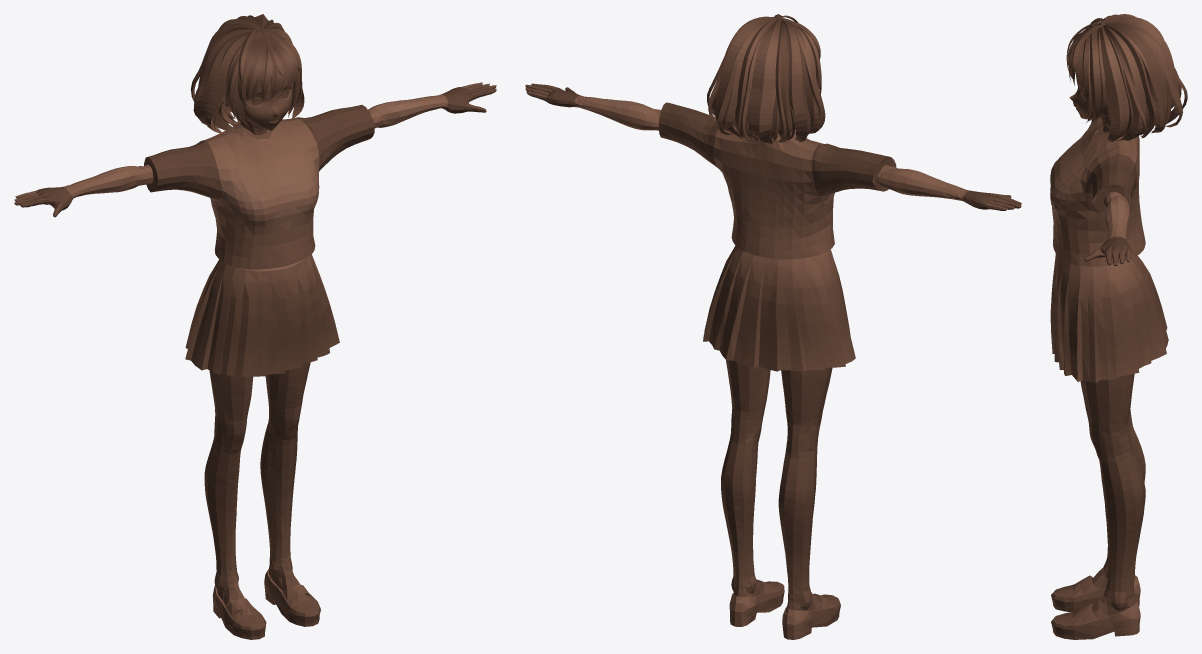
Rendered from Bob Cut High School Girl.fbx.
The picture shows the model from 3 angles, left to right: view 1: azimuth 30°, elevation 25°; view 2: azimuth 150°, elevation 25°; view 3: azimuth 270°, elevation 25°; orthographic projection. The views are drawn at different scales.
Parts seen in each view (by area): view 1: Mesh_71, Mesh_70, Mesh_63, Mesh_42; view 2: Mesh_71, Mesh_61, Mesh_62, Mesh_39, Mesh_41, Mesh_40, Mesh_60; view 3: Mesh_71, Mesh_58, Mesh_39, Mesh_38, Mesh_4, Mesh_59, Mesh_40, Mesh_50, Mesh_51, Mesh_46, Mesh_22, Mesh_60 (+6 smaller).
Boxes of the visible parts, x1=… form: Mesh_71: x1=14, y1=82, x2=496, y2=639; Mesh_70: x1=222, y1=76, x2=294, y2=130; Mesh_63: x1=205, y1=32, x2=261, y2=133; Mesh_42: x1=201, y1=31, x2=256, y2=128; Mesh_71: x1=525, y1=83, x2=1021, y2=639; Mesh_61: x1=748, y1=18, x2=781, y2=144; Mesh_62: x1=782, y1=19, x2=810, y2=141; Mesh_39: x1=715, y1=17, x2=775, y2=131; Mesh_41: x1=777, y1=20, x2=792, y2=142; Mesh_40: x1=735, y1=19, x2=777, y2=137; Mesh_60: x1=726, y1=18, x2=778, y2=139; Mesh_71: x1=1050, y1=63, x2=1168, y2=639; Mesh_58: x1=1099, y1=26, x2=1129, y2=142; Mesh_39: x1=1105, y1=23, x2=1168, y2=132; Mesh_38: x1=1103, y1=26, x2=1146, y2=140; Mesh_4: x1=1090, y1=27, x2=1101, y2=121; Mesh_59: x1=1104, y1=25, x2=1156, y2=138; Mesh_40: x1=1107, y1=20, x2=1179, y2=117; Mesh_50: x1=1103, y1=26, x2=1146, y2=137; Mesh_51: x1=1138, y1=30, x2=1182, y2=127; Mesh_46: x1=1111, y1=27, x2=1164, y2=133; Mesh_22: x1=1097, y1=28, x2=1108, y2=114; Mesh_60: x1=1104, y1=22, x2=1180, y2=124.
Size of the model in its own units: 139 by 162 by 33.7.
Materials: 11 (11 with a texture image).
